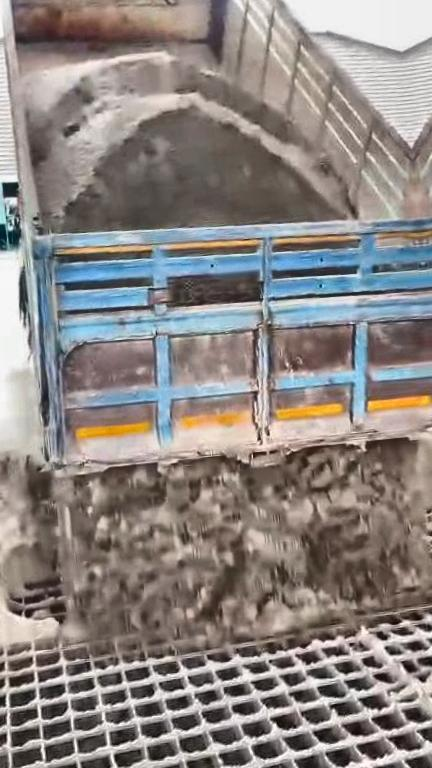sand: (0, 439, 432, 651), (19, 50, 351, 232), (174, 274, 251, 303)
